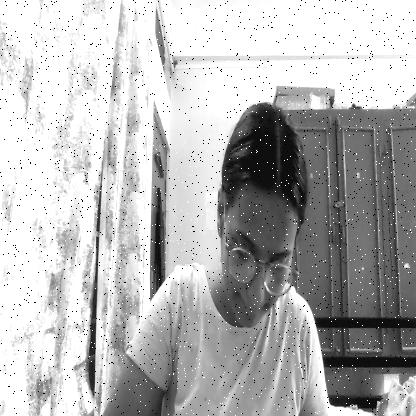Distracted: (219, 101, 300, 331)
